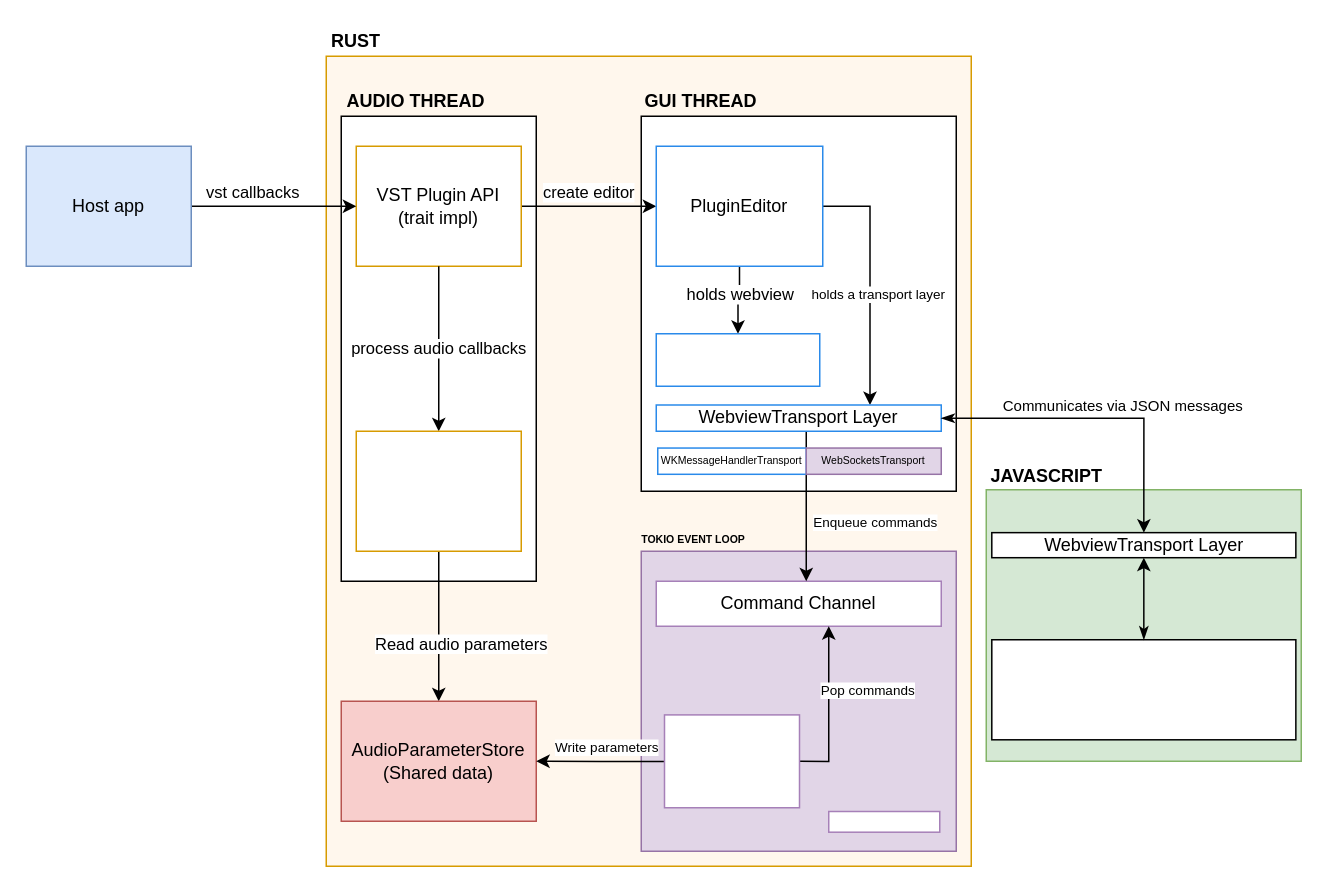
This 1328x893 diagram has some shape labels left out. The shapes that lost their labels are listed below. From the top down, each one's centre as x and y in pixels, then its label:
point (737, 359): WKWebView
point (438, 490): PluginProcessor
point (1143, 689): Views
point (731, 760): Command handler loop
point (883, 821): async tasks...
